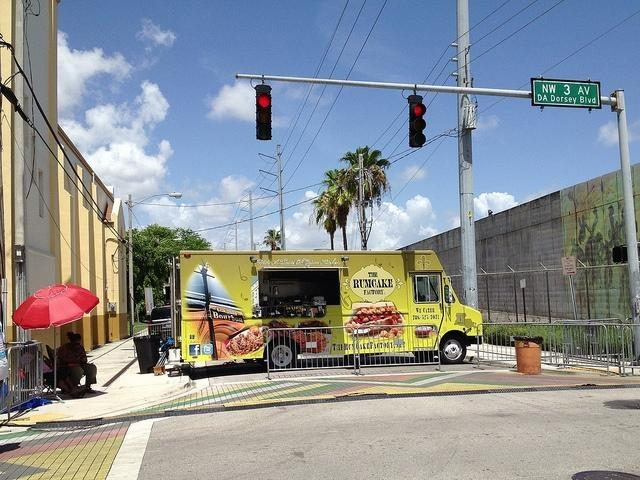truck: (180, 251, 483, 369)
